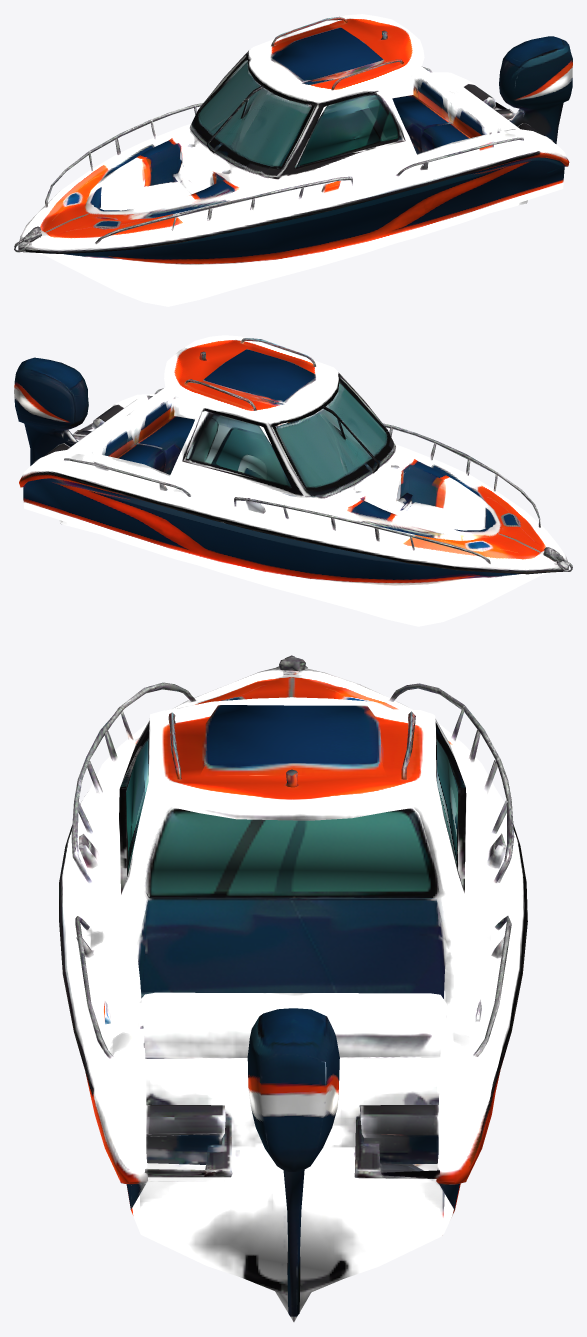
3 views of the same model, one above another, from view 1: azimuth 30°, elevation 25°; view 2: azimuth 150°, elevation 25°; view 3: azimuth 270°, elevation 25° (orthographic). The views are drawn at different scales.
Bounding box in the file's own units: 1 × 0.3867 × 0.3701.
Materials: 1 (1 with a texture image).
